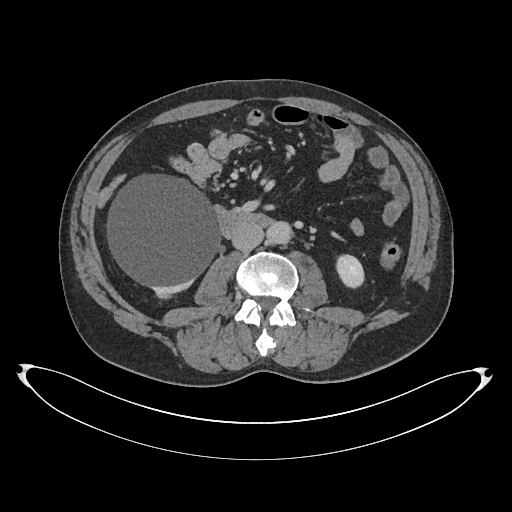Lesion: (105, 174, 222, 290)
